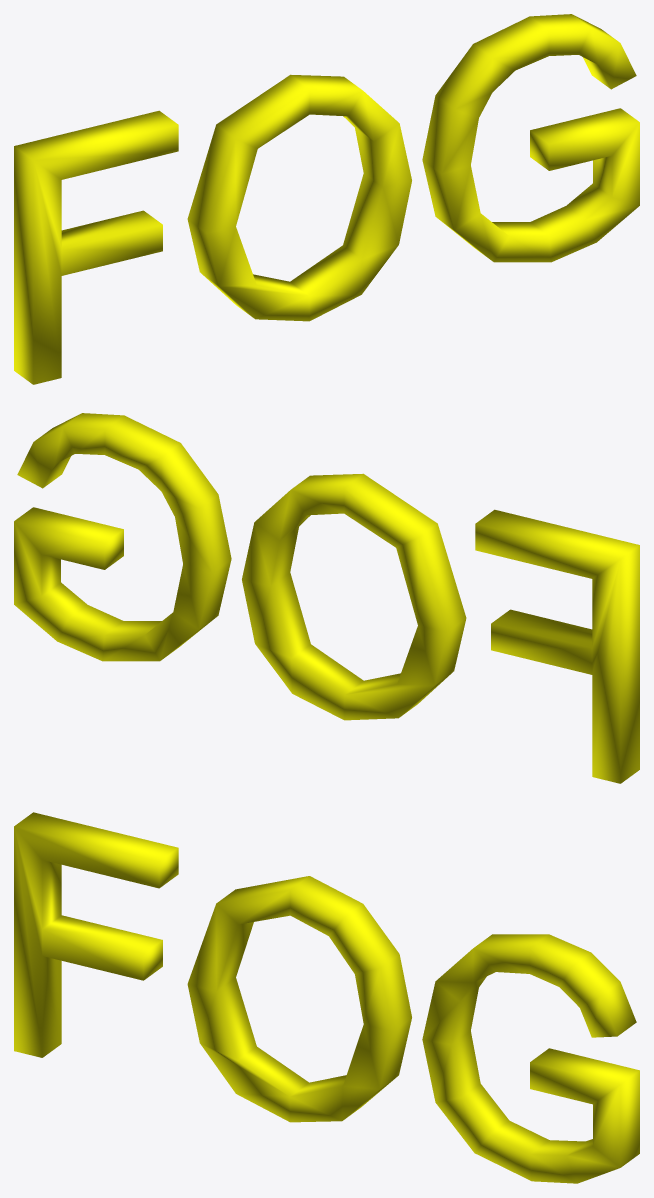
The model's file is INVISIBLE_ZCZONEZFOG.glb.
3 views of the same model, one above another, from view 1: azimuth 30°, elevation 25°; view 2: azimuth 150°, elevation 25°; view 3: azimuth 330°, elevation 25° (orthographic).
Visible parts, largest first — view 1: Mesh; view 2: Mesh; view 3: Mesh.
Part boxes in pixels (x1,y1,x2,y2): Mesh: [14, 14, 639, 384]; Mesh: [14, 413, 639, 783]; Mesh: [14, 812, 639, 1183].
Bounding box in the file's own units: 1.81 × 0.663 × 0.1.
